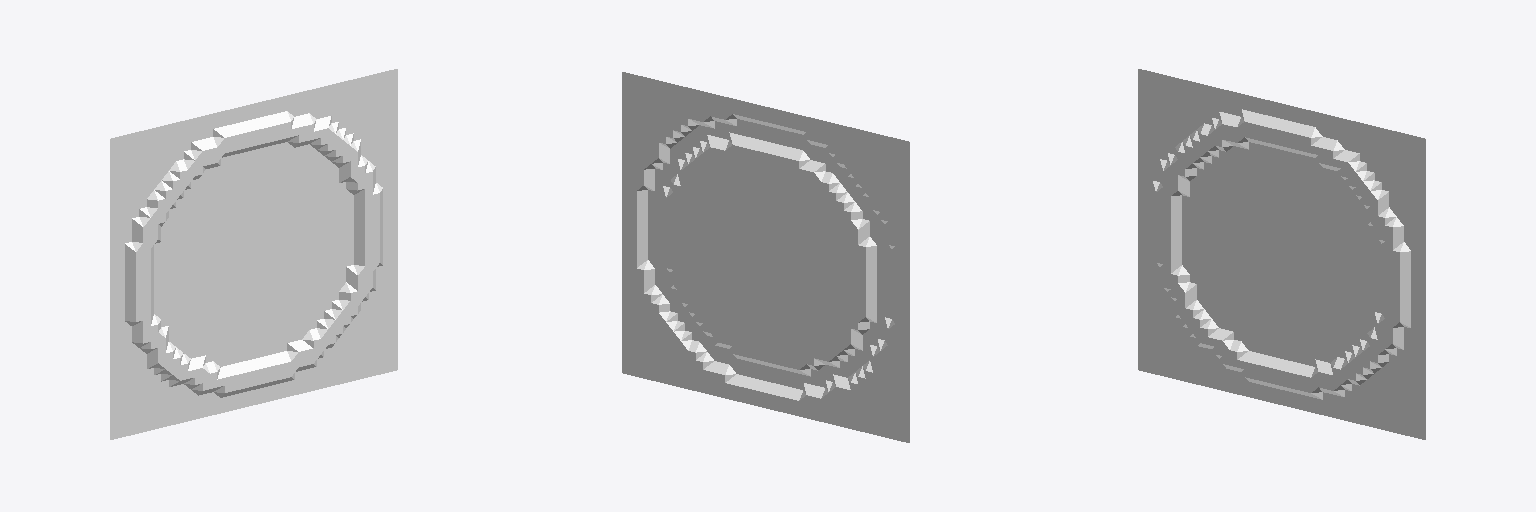
File: Rgn_Crater.obj
The picture shows the model from 3 angles: view 1: azimuth 30°, elevation 25°; view 2: azimuth 150°, elevation 25°; view 3: azimuth 330°, elevation 25°; orthographic projection.
Visible parts, largest first — view 1: Regular Plane2; view 2: Regular Plane2; view 3: Regular Plane2.
Boxes of the visible parts, x1,y1,x2,y2 form: Regular Plane2: [110, 69, 397, 439]; Regular Plane2: [622, 72, 909, 442]; Regular Plane2: [1138, 69, 1425, 439].
Size of the model in its own units: 40 by 40 by 1.